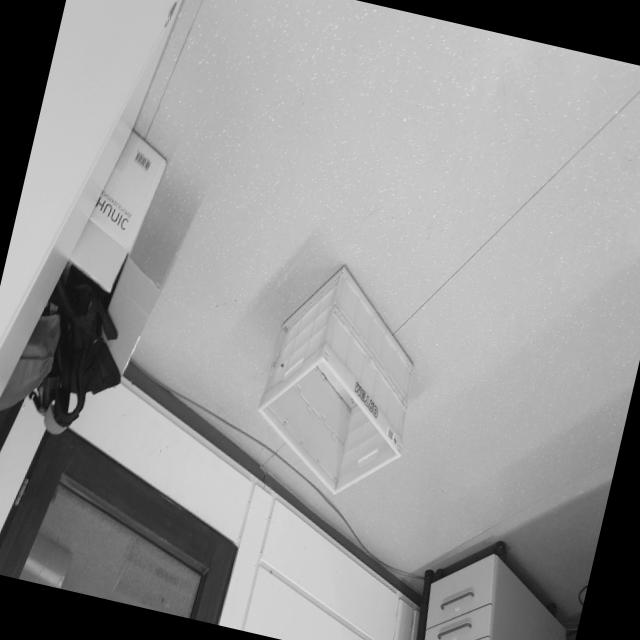box: (236, 218, 462, 514)
